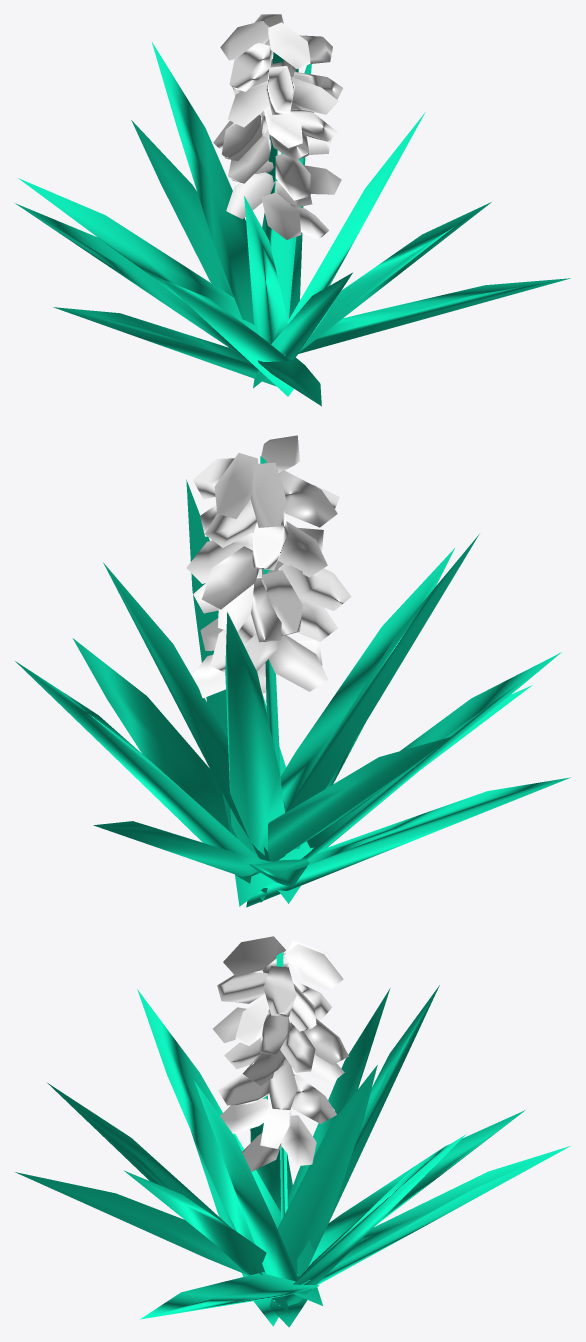
Rendered from Yucca_LOD1.obj.
3 renders of one model, top to bottom at view 1: azimuth 30°, elevation 25°; view 2: azimuth 150°, elevation 25°; view 3: azimuth 270°, elevation 25°, orthographic. The views are drawn at different scales.
Parts seen in each view (by area): view 1: Yucca_LOD1; view 2: Yucca_LOD1; view 3: Yucca_LOD1.
Part boxes in pixels (bbox=[...]): Yucca_LOD1: bbox=[15, 14, 570, 406]; Yucca_LOD1: bbox=[15, 435, 570, 907]; Yucca_LOD1: bbox=[15, 936, 570, 1327].
Bounding box in the file's own units: 180 × 140 × 185.
